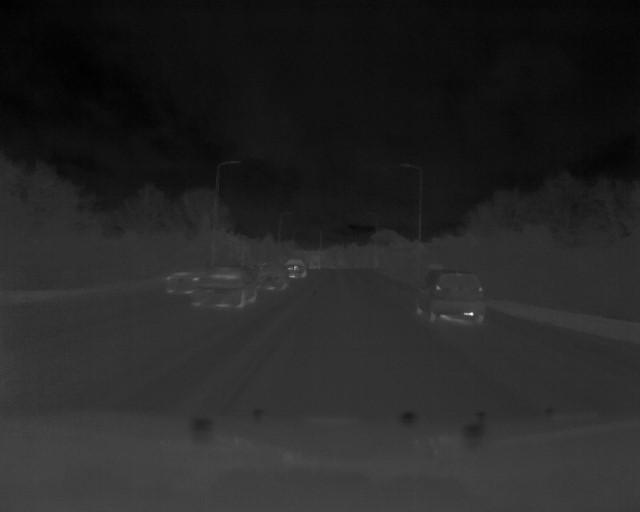car: (413, 263, 492, 332), (191, 265, 257, 309), (259, 263, 288, 291)
